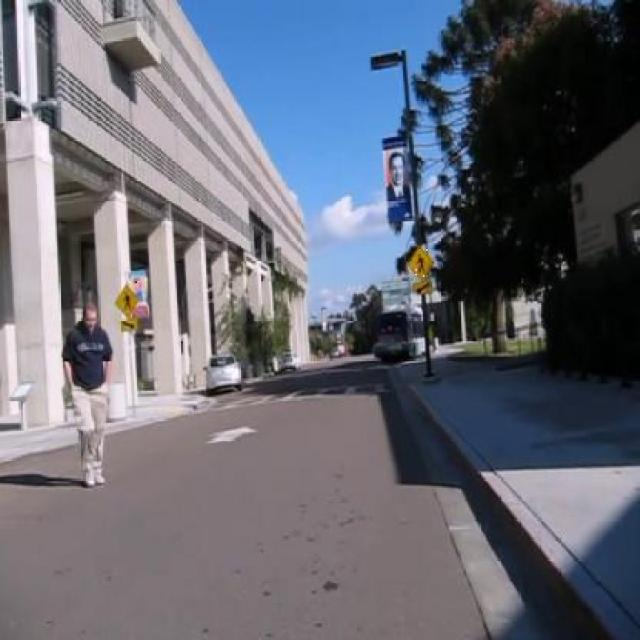pedestrianCrossing: (406, 243, 434, 282), (114, 281, 138, 319)
